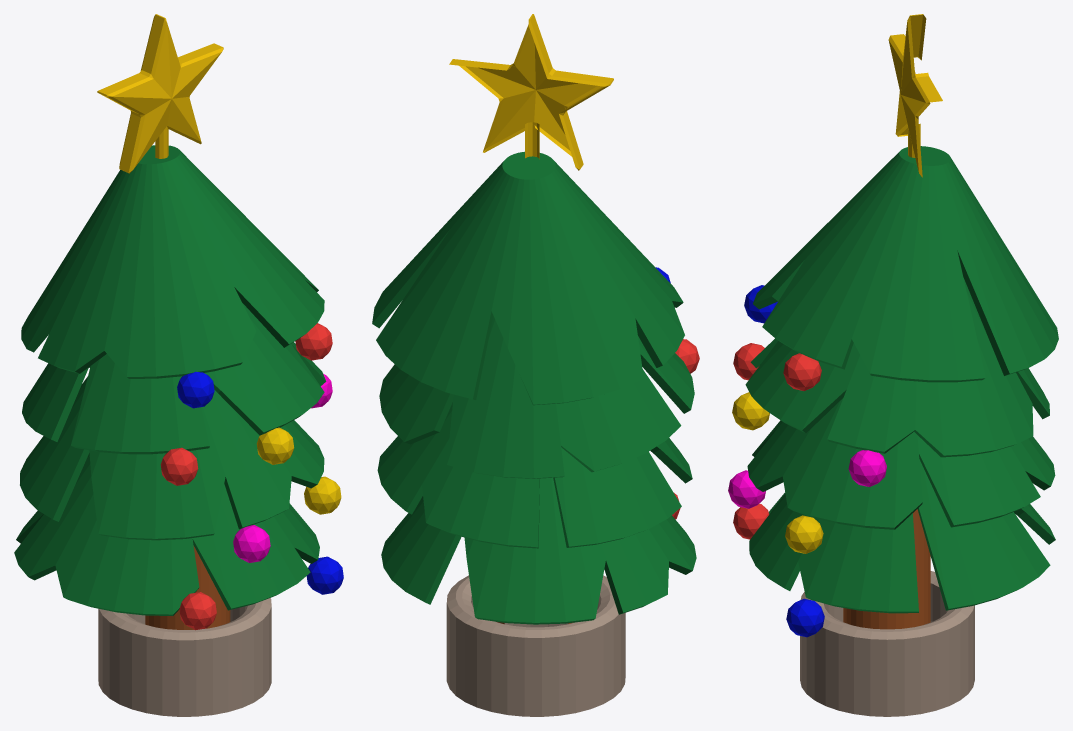
The model's file is Tree.gltf.
3 renders of one model, left to right at view 1: azimuth 30°, elevation 25°; view 2: azimuth 150°, elevation 25°; view 3: azimuth 270°, elevation 25°, orthographic. The views are drawn at different scales.
Parts seen in each view (by area): view 1: Tree; view 2: Tree; view 3: Tree.
Part boxes in pixels (box(x1,y1,x2,y2)): Tree: box(14, 14, 343, 716); Tree: box(372, 14, 699, 716); Tree: box(728, 14, 1058, 716).
Size of the model in its own units: 2.45 by 5.53 by 2.51.
